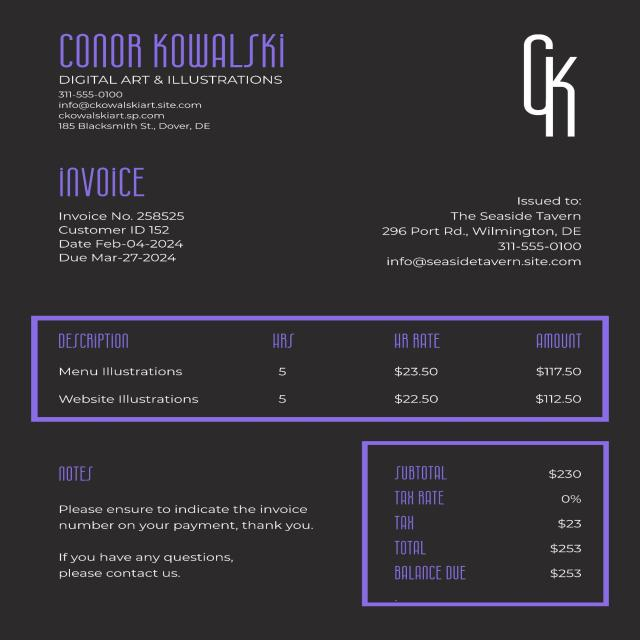paragraph: (350, 437, 620, 621), (38, 452, 324, 602), (40, 19, 313, 140), (352, 181, 605, 284), (43, 159, 213, 273), (472, 32, 594, 151)
table: (32, 308, 614, 430)
